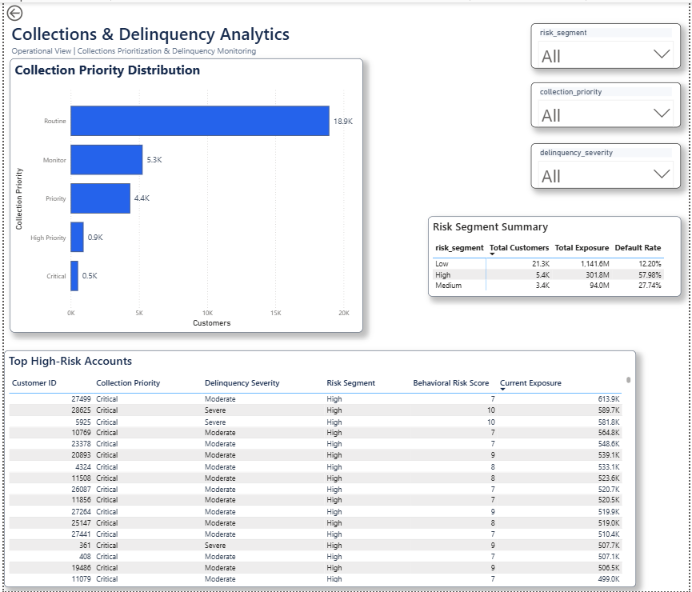

The dashboard page shown, as its layout file describes it:
{"tool":"powerbi","page":{"name":"Delinquency & Collections","canvas":[1280,1100],"ordinal":1},"visuals":[{"type":"textbox","box":[9.6,31.6,542,81],"z":0},{"type":"clusteredBarChart","title":"Collection Priority Distribution","fields":{"Category":["credit_risk_analytics.collection_priority"],"Y":["measures (2).Total Customers"]},"box":[11.2,104.6,659.5,511.9],"z":1},{"type":"pivotTable","title":"Risk Segment Summary","fields":{"Rows":["credit_risk_analytics.risk_segment"],"Values":["measures (2).Total Customers","measures (2).Total Exposure","measures (2).Default Rate"]},"box":[792.1,399.8,472.7,149.5],"z":2},{"type":"tableEx","title":"Top High-Risk Accounts","fields":{"Values":["credit_risk_analytics.customer_id","credit_risk_analytics.collection_priority","credit_risk_analytics.delinquency_severity","credit_risk_analytics.risk_segment","credit_risk_analytics.behavioral_risk_score","credit_risk_analytics.current_exposure"]},"box":[0,650.1,1180.7,442],"z":3},{"type":"actionButton","box":[0,0,100,40],"z":4},{"type":"slicer","fields":{"Values":["credit_risk_analytics.risk_segment"]},"box":[984.6,39.2,280.2,84.1],"z":5},{"type":"slicer","fields":{"Values":["credit_risk_analytics.collection_priority"]},"box":[984.6,149.5,280.2,84.1],"z":6},{"type":"slicer","fields":{"Values":["credit_risk_analytics.delinquency_severity"]},"box":[984.6,263.4,280.2,84.1],"z":7}]}

Visuals, with their boxes in screenshot pixels (x1, y1, x2, y2), scaled from the page's 1280x1100 canvas onto the 692x592 screenshot:
textbox: 5/17/298/61
"Collection Priority Distribution" clusteredBarChart: 6/56/363/332
"Risk Segment Summary" pivotTable: 428/215/684/296
"Top High-Risk Accounts" tableEx: 0/350/638/588
actionButton: 0/0/54/22
slicer - credit_risk_analytics.risk_segment: 532/21/684/66
slicer - credit_risk_analytics.collection_priority: 532/80/684/126
slicer - credit_risk_analytics.delinquency_severity: 532/142/684/187
